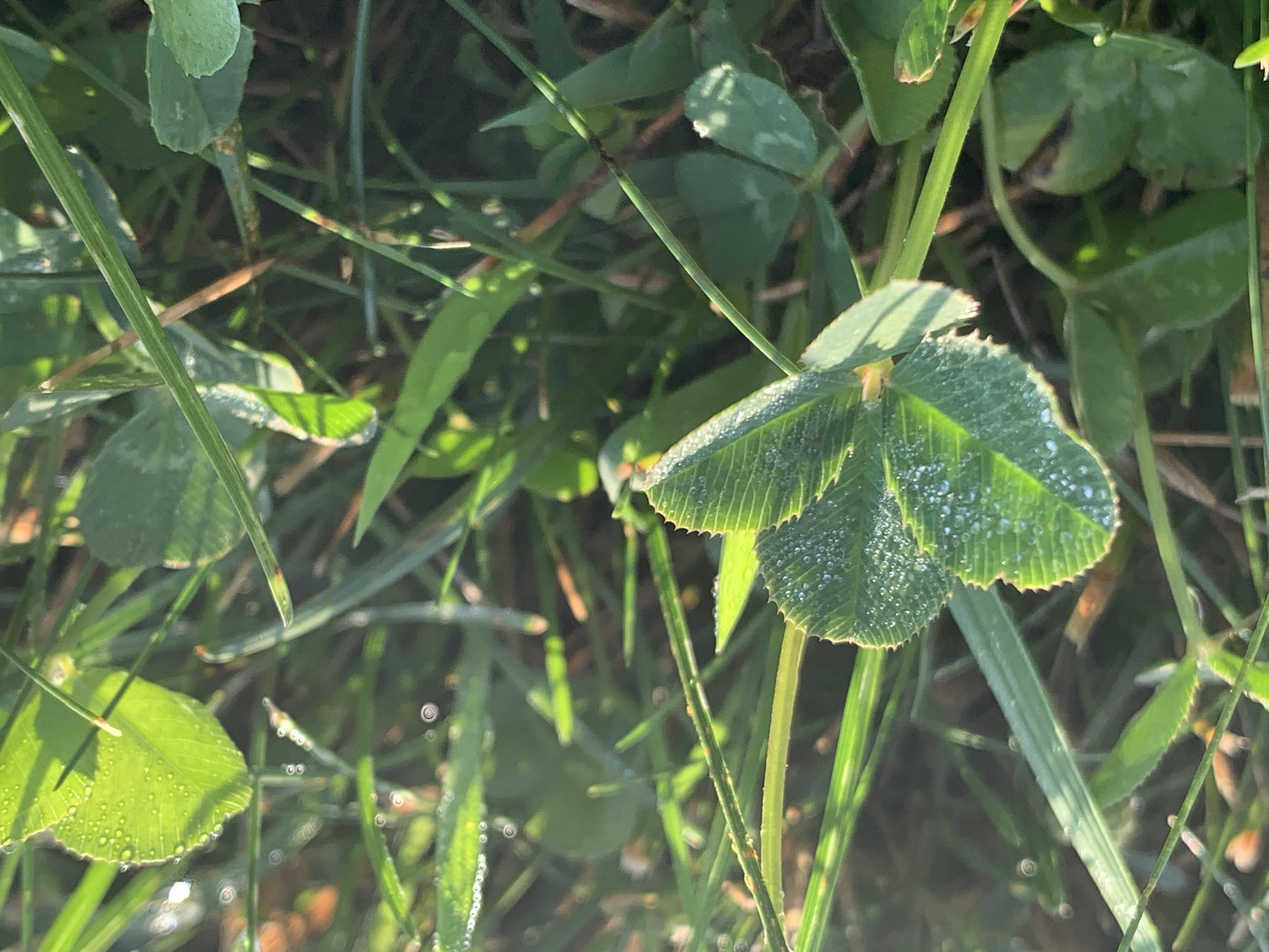4-Leaf-Clovers: (412, 486, 902, 840)
